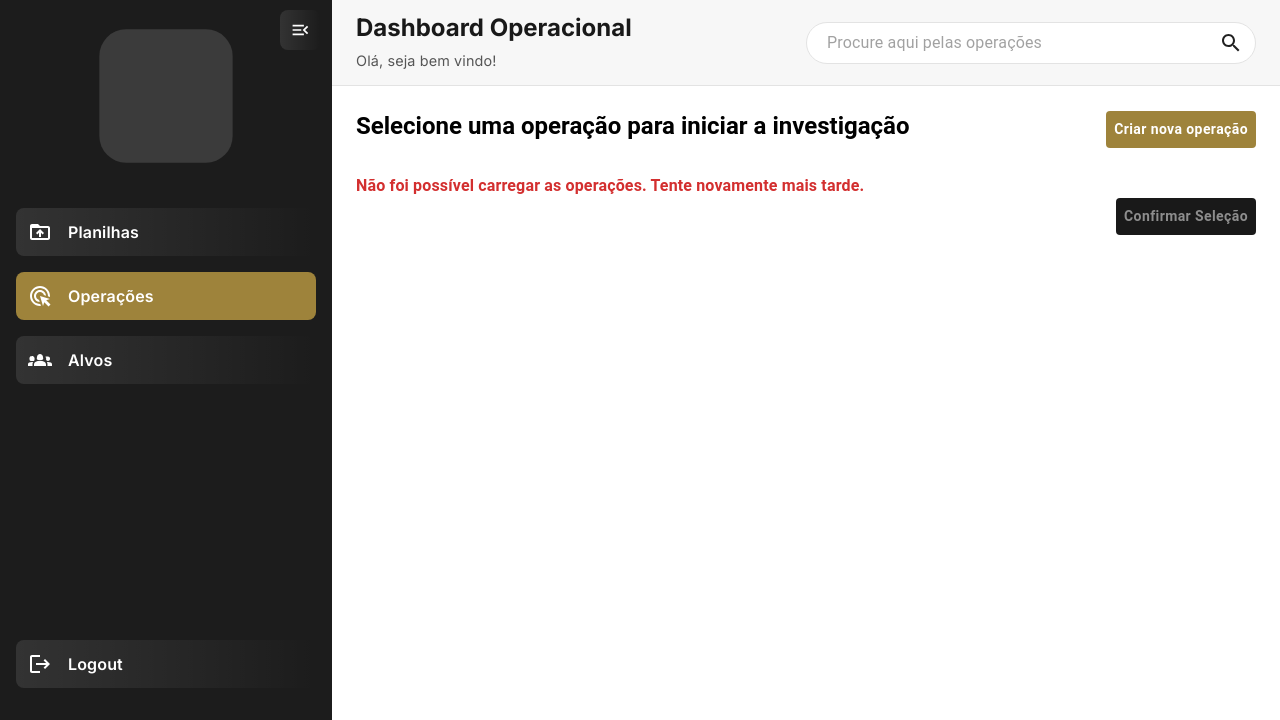
Scenario: Teste de Operações - Criação e Seleção › Deve validar campos obrigatórios no modal de criação
This screenshot has width=1280, height=720.
Check: the heading "Selecione uma operação para iniciar a investigação" is shown, box [356,110,910,142]
Note: Clica no botão "Criar nova operação"
Click the button "Criar nova operação" at (1181, 130), box [1106,111,1256,148]
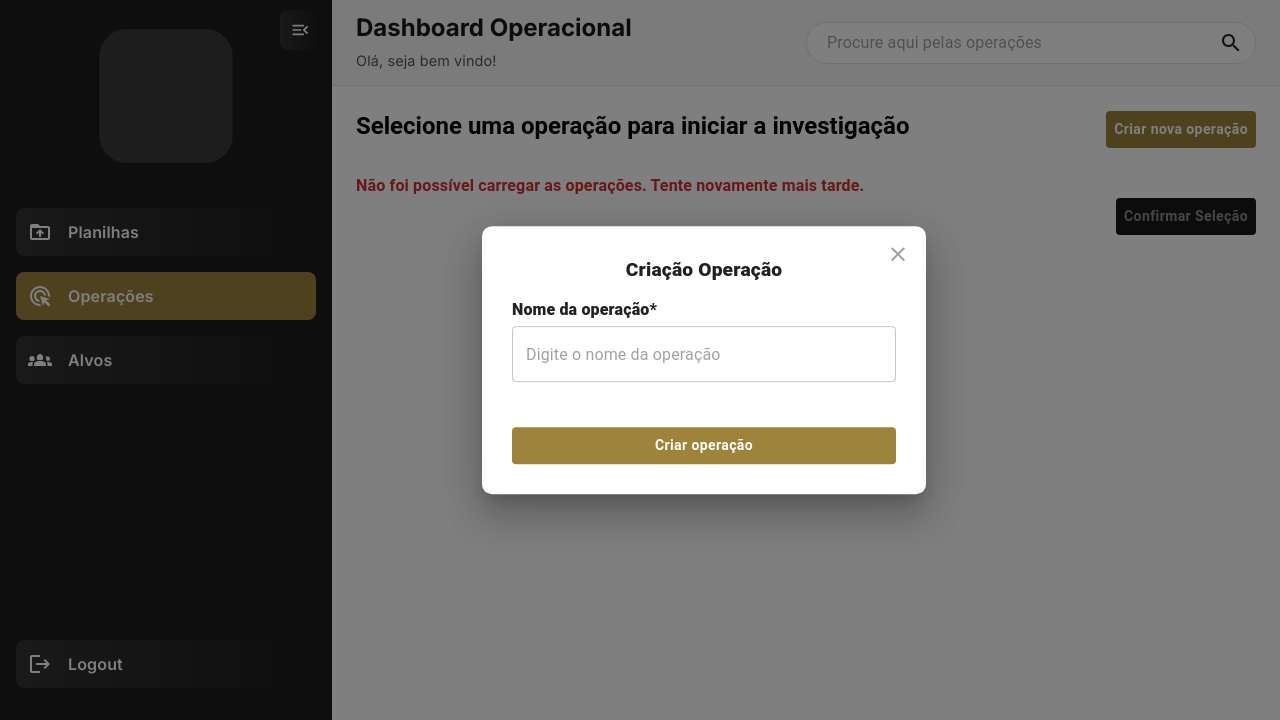
Note: Tenta criar sem preencher o nome
Click the button "Criar operação" at (704, 446), box [512,427,896,464]
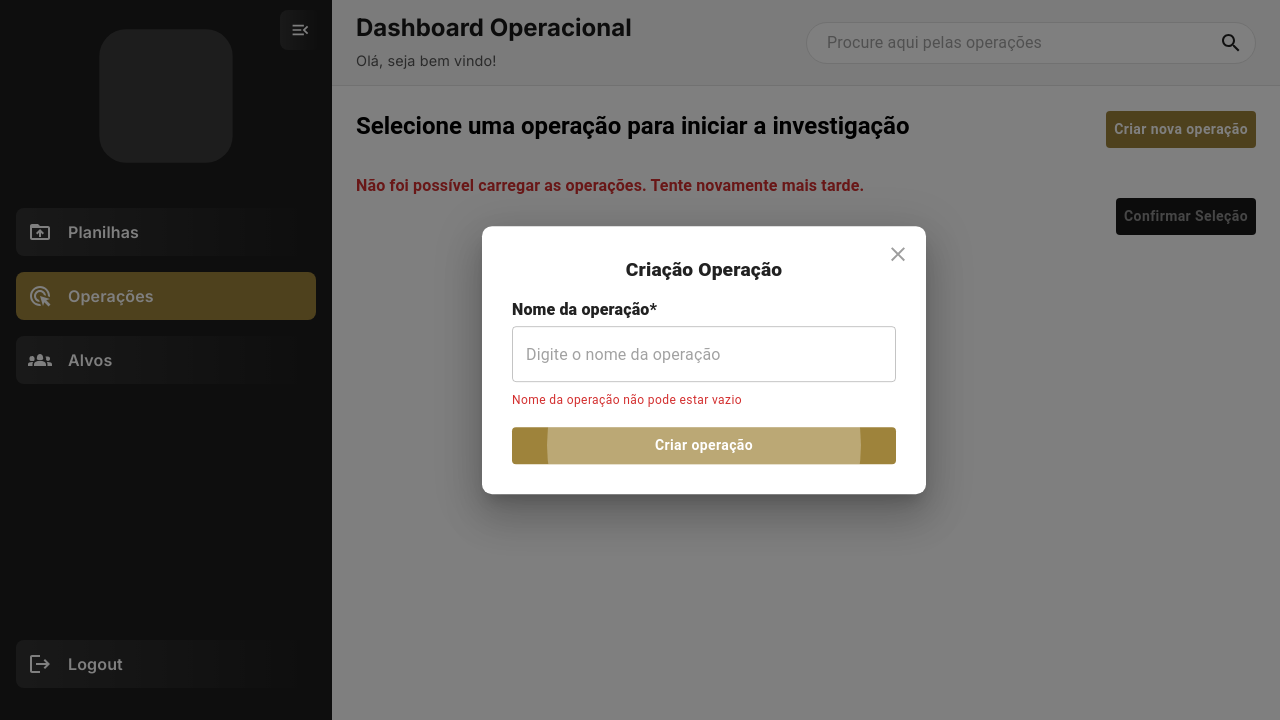
Check: the text "Nome da operação não pode estar vazio" is shown, box [512,393,742,407]
